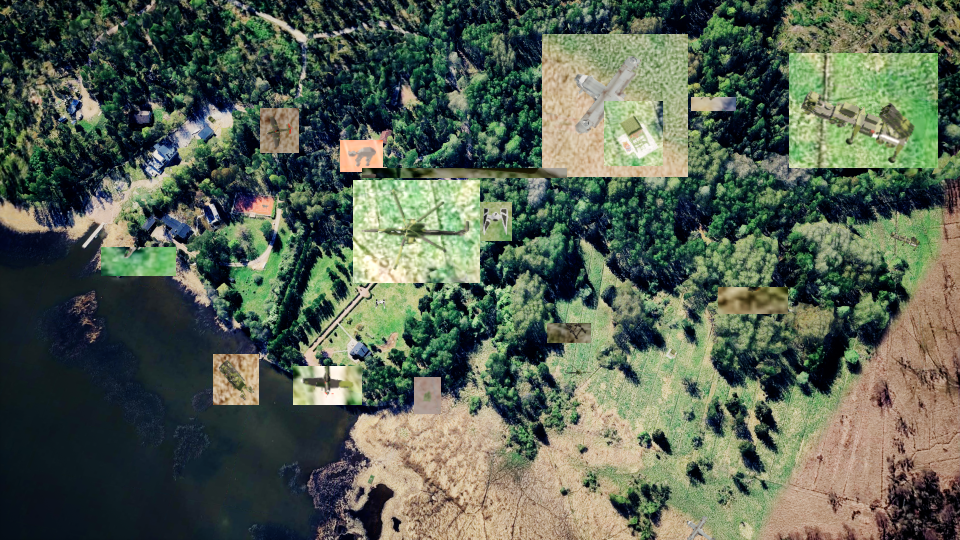condor: (542, 34, 688, 177)
hangar: (362, 168, 567, 178)
helicopter: (353, 180, 480, 283)
jammer: (630, 63, 683, 131)
jet_plane: (101, 247, 176, 276)
large_launcher: (789, 53, 938, 168)
large_tower: (547, 323, 591, 343)
medium_launcher: (718, 287, 788, 314)
medium_plane: (293, 366, 362, 405)
mine_roller: (213, 354, 259, 405)
small_launcher: (414, 377, 441, 414)
small_plane: (260, 108, 299, 153)
small_tower: (604, 101, 663, 166)
spacecraft: (478, 202, 512, 241)
ta-ta: (340, 140, 383, 172)
tank: (691, 97, 736, 111)
